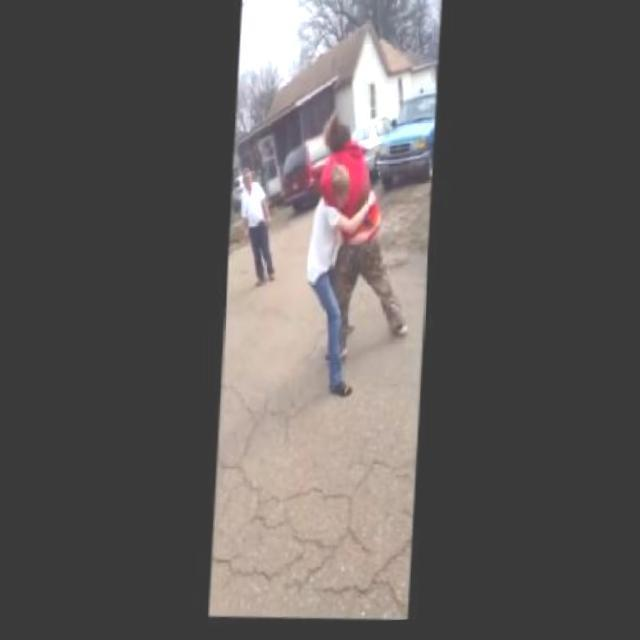fight: (298, 112, 416, 408)
